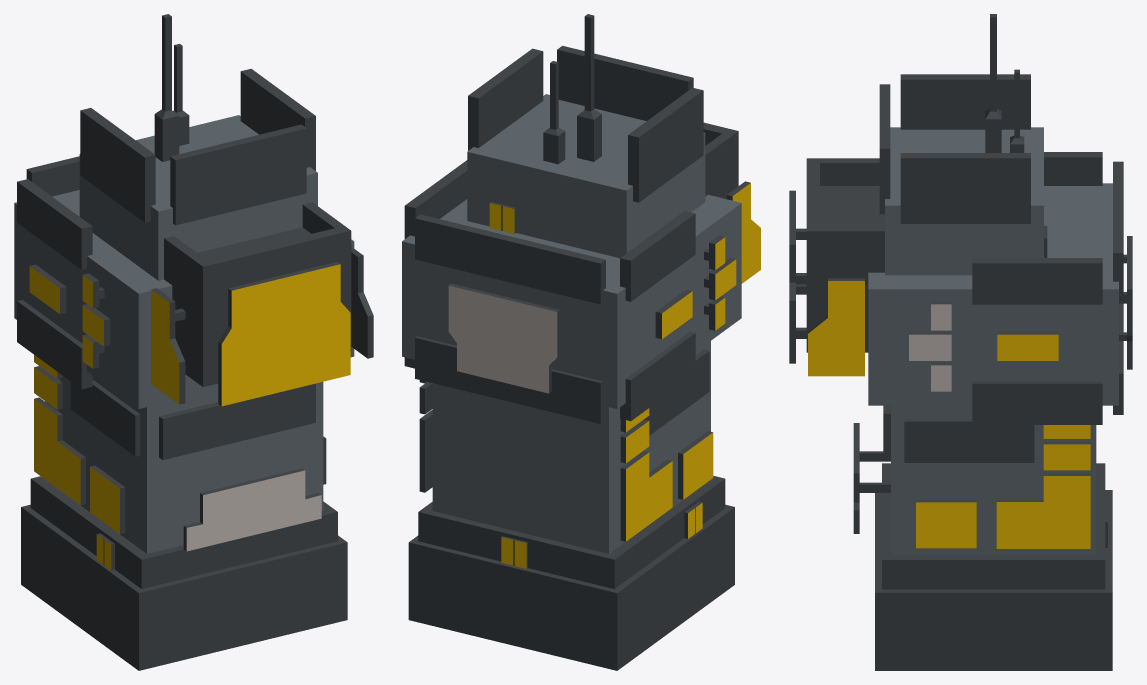
The model's file is SM_Bld_Background_Building_02.fbx.
3 renders of one model, left to right at view 1: azimuth 30°, elevation 25°; view 2: azimuth 150°, elevation 25°; view 3: azimuth 270°, elevation 25°, orthographic.
Parts seen in each view (by area): view 1: SM_Bld_Background_Building_02; view 2: SM_Bld_Background_Building_02; view 3: SM_Bld_Background_Building_02.
Boxes of the visible parts, x1,y1,x2,y2 form: SM_Bld_Background_Building_02: (14,14,373,670); SM_Bld_Background_Building_02: (402,14,760,670); SM_Bld_Background_Building_02: (789,14,1132,670).
Bounding box in the file's own units: 2426 × 5577 × 2915.
